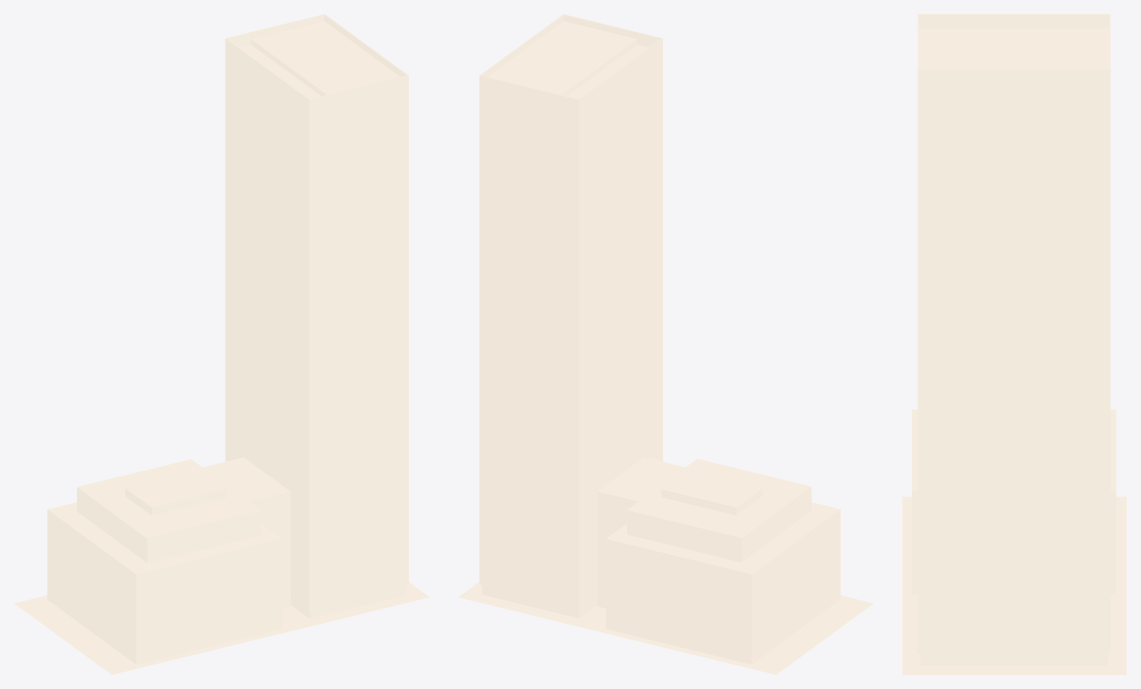
File: building3.glb
3 views of the same model, side by side, from view 1: azimuth 30°, elevation 25°; view 2: azimuth 150°, elevation 25°; view 3: azimuth 270°, elevation 25° (orthographic). The views are drawn at different scales.
Visible parts, largest first — view 1: building3; view 2: building3; view 3: building3.
Boxes of the visible parts, box(x1,y1,x2,y2) form: building3: box(14, 14, 429, 674); building3: box(458, 14, 873, 674); building3: box(902, 14, 1126, 674).
Bounding box in the file's own units: 128 × 200 × 68.1.
